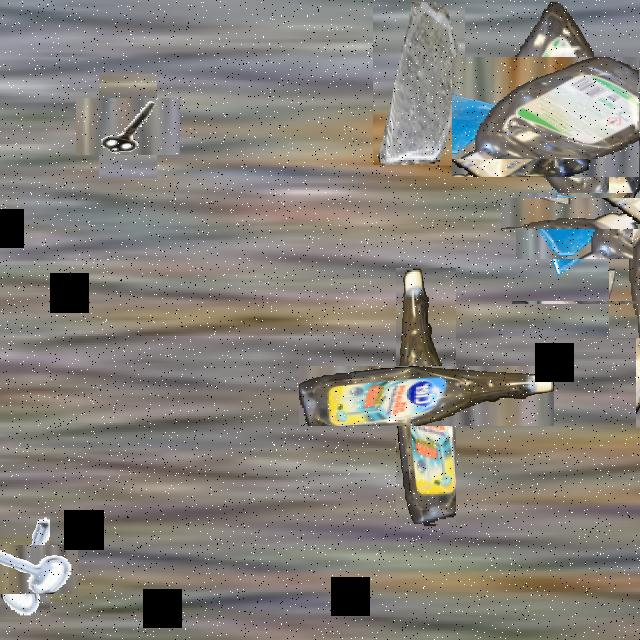glass: (373, 2, 465, 165), (528, 180, 620, 272)
metal: (88, 86, 168, 166), (0, 529, 64, 608)
plastic: (479, 29, 640, 205), (347, 318, 505, 476), (554, 143, 640, 283), (574, 237, 640, 366)
wood: (618, 104, 640, 140)
